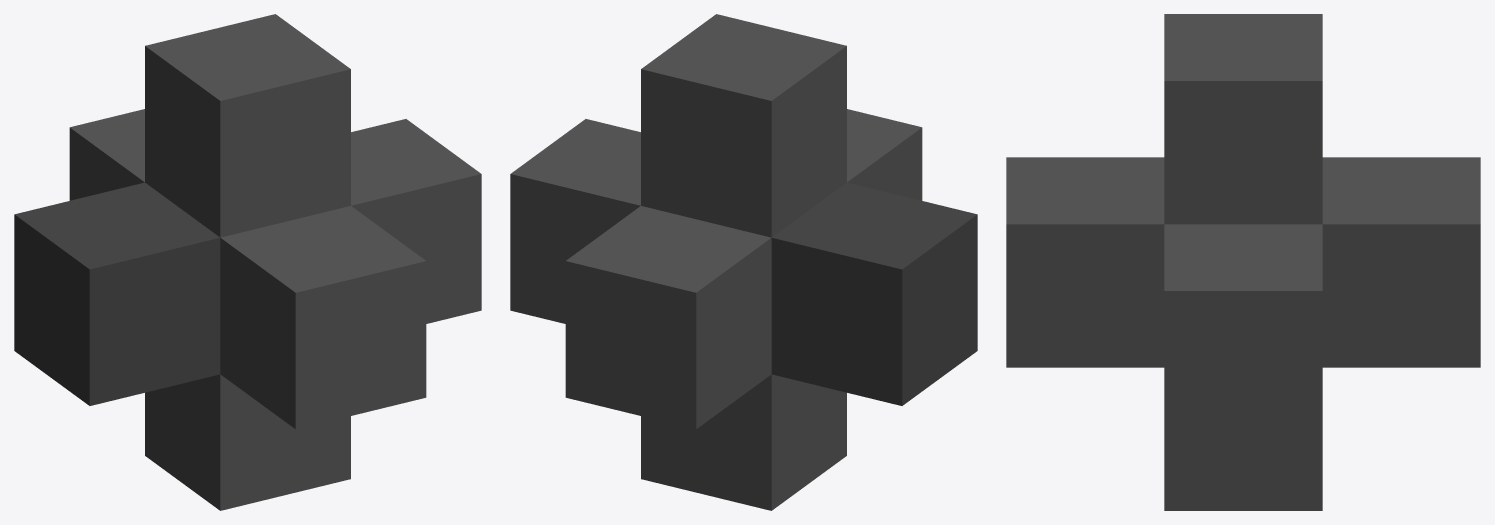
The model's file is turret_shot.obj.
The picture shows the model from 3 angles, left to right: view 1: azimuth 30°, elevation 25°; view 2: azimuth 150°, elevation 25°; view 3: azimuth 270°, elevation 25°; orthographic projection. The views are drawn at different scales.
Parts seen in each view (by area): view 1: turret_shot; view 2: turret_shot; view 3: turret_shot.
Boxes of the visible parts, bbox=[...] form: turret_shot: bbox=[14, 14, 481, 510]; turret_shot: bbox=[510, 14, 977, 510]; turret_shot: bbox=[1006, 14, 1480, 510].
Bounding box in the file's own units: 3 × 3 × 3.
Materials: 1 (1 with a texture image).
